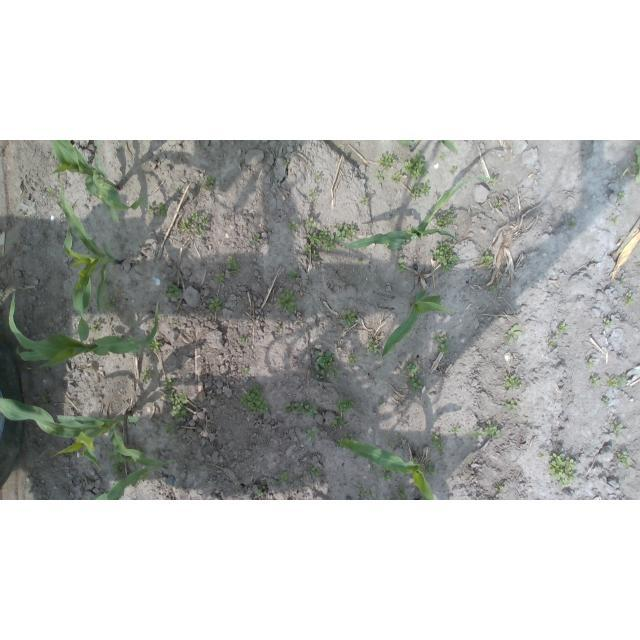Maize: (1, 398, 176, 467), (8, 290, 160, 368), (56, 172, 125, 343), (343, 175, 497, 249), (49, 140, 151, 225), (338, 438, 435, 500), (382, 289, 458, 355), (89, 468, 153, 501), (395, 141, 458, 154), (94, 140, 115, 150)
Weeds: (548, 453, 579, 488), (429, 241, 460, 273), (240, 384, 269, 415), (106, 447, 134, 478), (311, 350, 339, 380), (166, 390, 189, 423), (469, 420, 501, 443), (307, 227, 336, 252), (404, 152, 429, 181), (403, 359, 424, 393), (283, 401, 319, 418), (277, 289, 298, 316), (333, 223, 355, 246), (433, 332, 451, 356), (630, 144, 640, 184), (411, 180, 431, 199), (377, 152, 396, 172), (436, 209, 454, 229), (506, 324, 523, 344), (193, 216, 210, 236), (148, 203, 169, 219), (430, 432, 446, 453), (336, 397, 355, 414), (227, 256, 242, 277), (335, 433, 356, 447), (606, 376, 629, 388), (368, 334, 381, 355), (304, 245, 320, 261), (343, 309, 357, 327), (167, 280, 181, 298), (206, 299, 222, 314), (505, 374, 522, 388), (393, 485, 408, 500), (141, 366, 155, 382), (481, 251, 494, 268), (618, 452, 631, 468), (425, 462, 437, 479), (88, 320, 102, 334), (331, 415, 345, 429), (200, 175, 214, 189), (150, 338, 163, 353), (307, 465, 322, 477), (107, 298, 118, 313), (624, 293, 635, 308), (396, 257, 406, 273), (164, 423, 176, 436), (607, 215, 620, 227), (288, 268, 301, 280), (180, 218, 191, 232), (379, 471, 393, 482), (589, 376, 601, 388), (390, 172, 402, 184), (287, 221, 300, 232), (614, 422, 625, 435), (307, 426, 317, 440), (278, 470, 288, 484), (164, 378, 176, 389), (585, 357, 596, 369), (346, 353, 358, 364), (305, 216, 316, 228), (505, 399, 518, 409), (214, 272, 225, 283), (451, 426, 462, 437), (492, 198, 502, 210), (256, 484, 266, 496), (375, 170, 384, 183), (558, 323, 568, 334), (602, 318, 612, 328), (309, 189, 318, 200), (252, 233, 261, 244), (386, 437, 395, 448), (139, 472, 148, 482), (48, 186, 57, 196), (190, 212, 199, 221), (358, 484, 367, 493), (548, 338, 558, 346), (601, 397, 611, 405), (238, 338, 249, 345), (569, 217, 576, 228), (130, 480, 138, 489), (360, 196, 369, 204), (366, 490, 375, 498), (369, 464, 377, 473), (618, 191, 626, 199), (41, 231, 48, 240), (489, 285, 497, 292), (242, 368, 249, 375), (539, 451, 546, 458), (498, 485, 505, 492), (450, 167, 457, 174), (377, 399, 383, 407), (440, 152, 445, 161), (626, 169, 632, 176), (395, 433, 402, 439), (620, 276, 626, 282), (305, 280, 311, 286), (357, 256, 363, 262), (493, 494, 499, 500), (315, 172, 321, 178), (423, 401, 429, 407), (286, 159, 291, 166), (277, 326, 282, 332), (520, 473, 525, 479), (175, 186, 181, 191), (383, 242, 390, 246), (494, 175, 499, 180), (274, 154, 279, 159), (398, 444, 403, 448), (390, 216, 394, 220)
